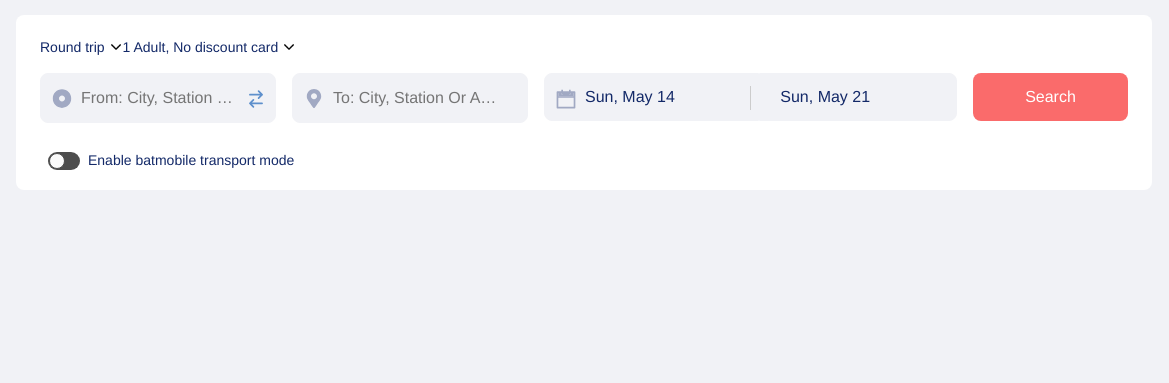
Scenario: Searchbar Params › should change number of adults when clicked
Click the button "1 Adult, No discount card" at coordinates (208, 47), box [123,39,294,55]
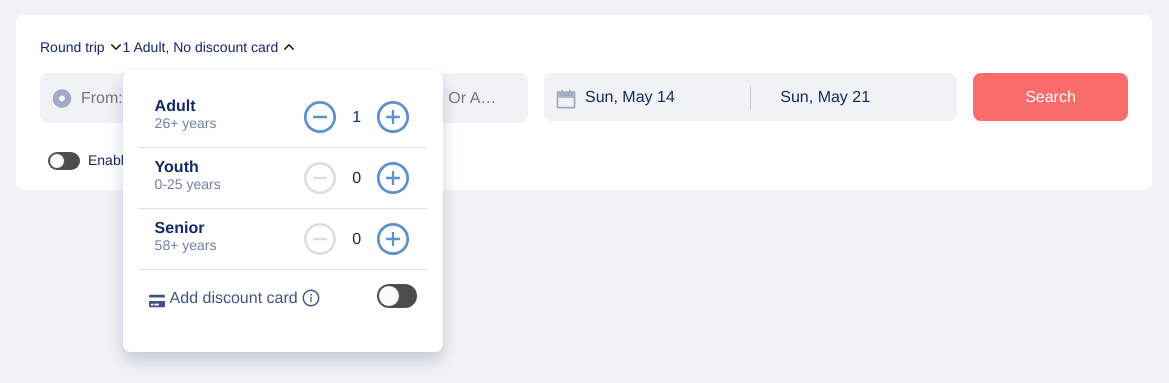
Click the 1st icon with test id "icon--plus" at coordinates (393, 117), box [375,99,412,135]
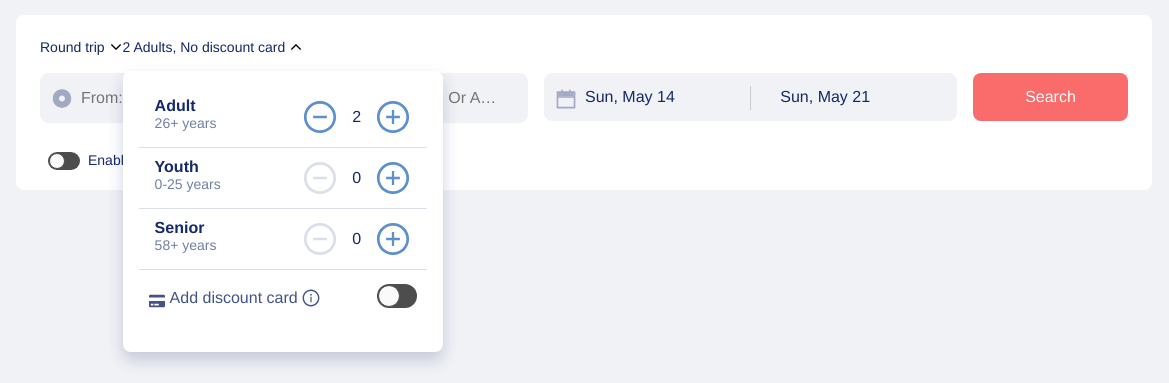
Click the 1st icon with test id "icon--plus" at coordinates (393, 117), box [375,99,412,135]
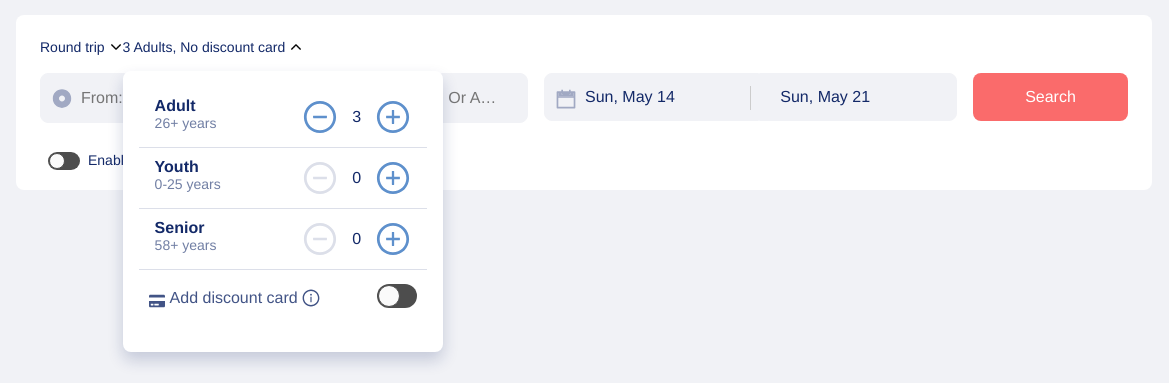
Result: the text "3" is shown at [352,108,361,126]
